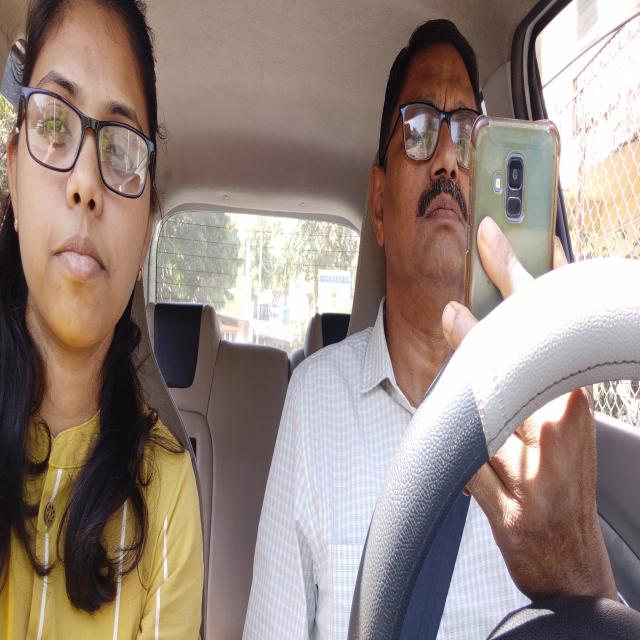mobile: (470, 124, 558, 340)
person: (11, 0, 165, 346), (379, 23, 486, 299)
